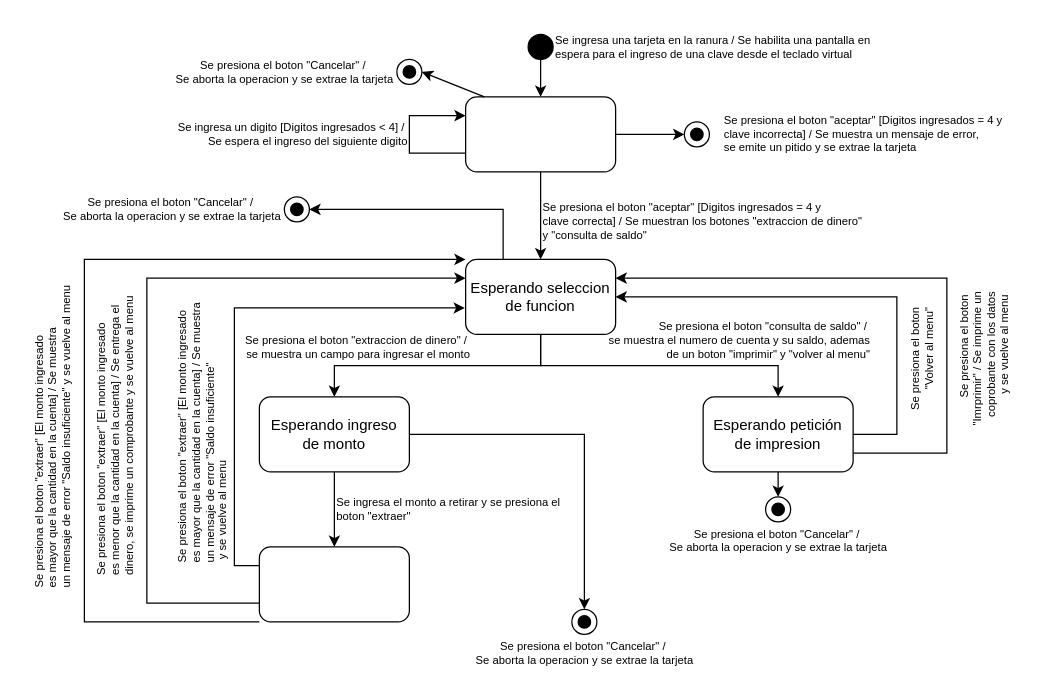
This 1055x699 diagram has some shape labels left out. The centre of each missing label's shape, as x and y in pixels:
"Validando clave" goes at point (540, 134).
"Validando extraccion" goes at point (333, 584).
